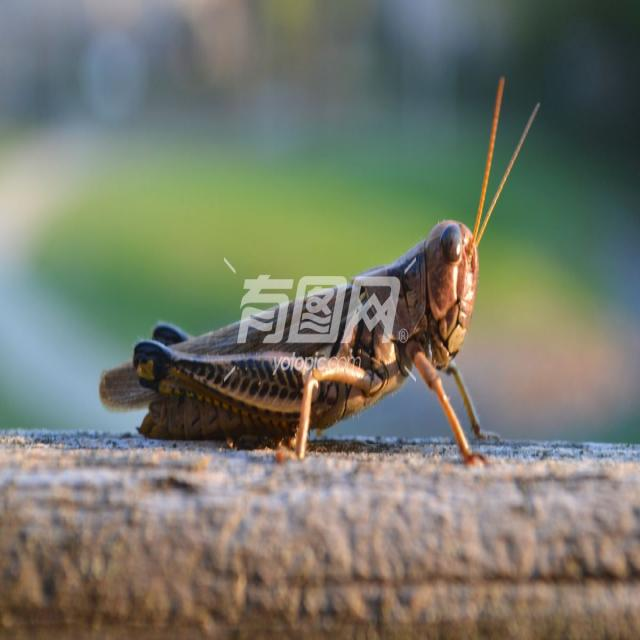ZhaMeng: (81, 188, 518, 452)
